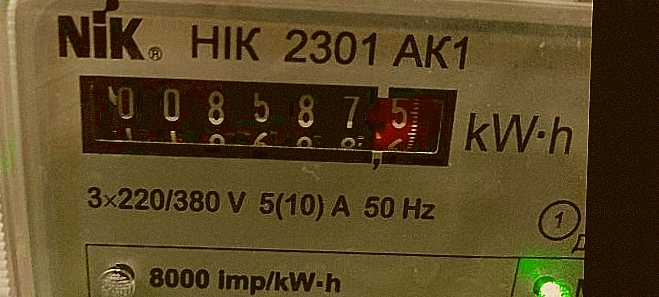0: (157, 82, 183, 123)
1: (111, 80, 137, 122)
5: (386, 91, 411, 131), (248, 86, 272, 125)
7: (337, 90, 361, 132)
8: (201, 85, 227, 127), (293, 89, 315, 130)
screen: (54, 54, 476, 187)
